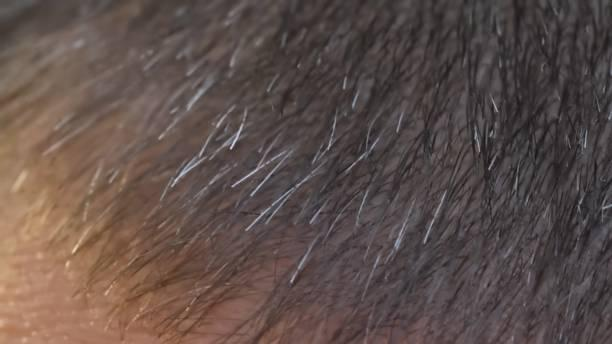grey hair: (226, 151, 329, 233), (170, 142, 215, 223), (419, 183, 452, 254), (288, 238, 315, 295), (462, 106, 488, 160), (229, 107, 251, 160), (257, 58, 283, 102), (355, 177, 371, 240), (394, 94, 411, 150), (332, 59, 352, 101), (577, 120, 595, 155)
